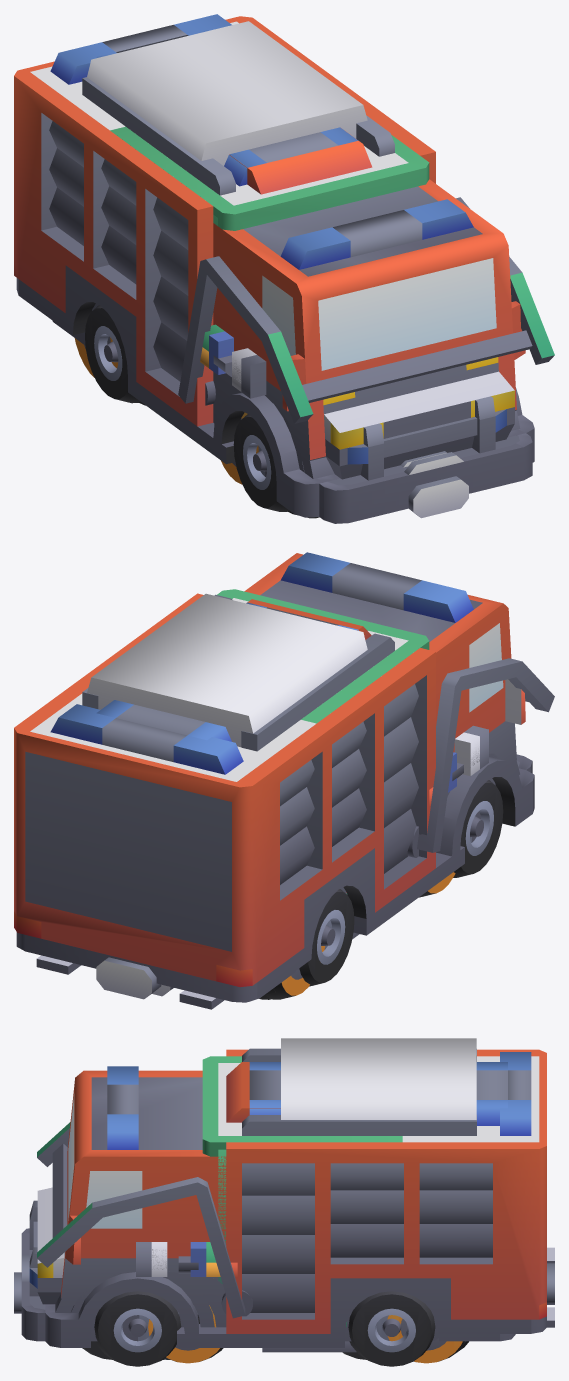
File: cars.glb
3 renders of one model, top to bottom at view 1: azimuth 30°, elevation 25°; view 2: azimuth 150°, elevation 25°; view 3: azimuth 270°, elevation 25°, orthographic. The views are drawn at different scales.
Visible parts, largest first — view 1: body (×4), arm, grill, wheel-front-right, wheel-back-right; view 2: body (×3), arm, wheel-back-right (×2), wheel-front-right; view 3: body (×9), arm, wheel-back-left (×2), wheel-front-left (×2), grill.
Part boxes in pixels (x1,y1,x2,y2): body (×4): (14, 14, 534, 523); arm: (178, 197, 554, 423); grill: (328, 396, 519, 485); wheel-front-right: (233, 414, 288, 511); wheel-back-right: (85, 305, 139, 403); body (×3): (14, 552, 534, 1009); arm: (407, 658, 554, 857); wheel-back-right (×2): (266, 889, 354, 999); wheel-front-right: (453, 780, 503, 877); body (×9): (14, 1038, 554, 1352); arm: (37, 1122, 253, 1318); wheel-back-left (×2): (348, 1291, 464, 1366); wheel-front-left (×2): (94, 1291, 223, 1366); grill: (22, 1200, 45, 1309).
Size of the model in its own units: 1.6 by 1.8 by 3.45.
1 material, 1 textured.
